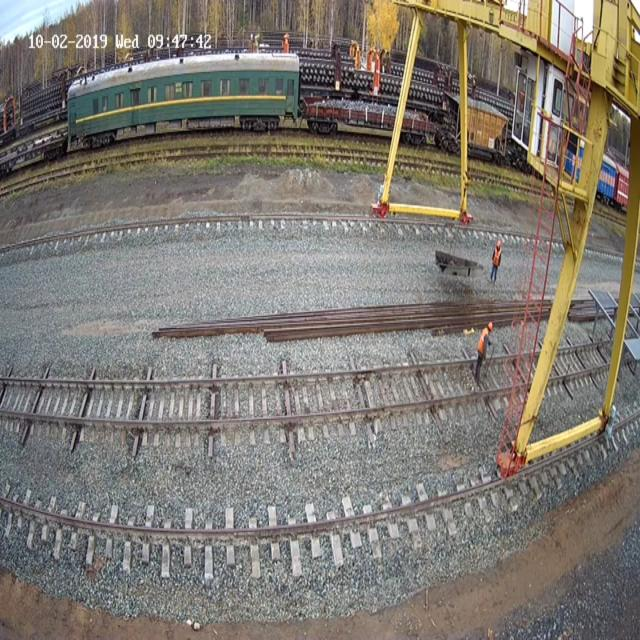Helmet: (495, 238, 502, 248), (488, 322, 493, 331)
Person: (474, 322, 493, 386), (490, 240, 502, 284)
